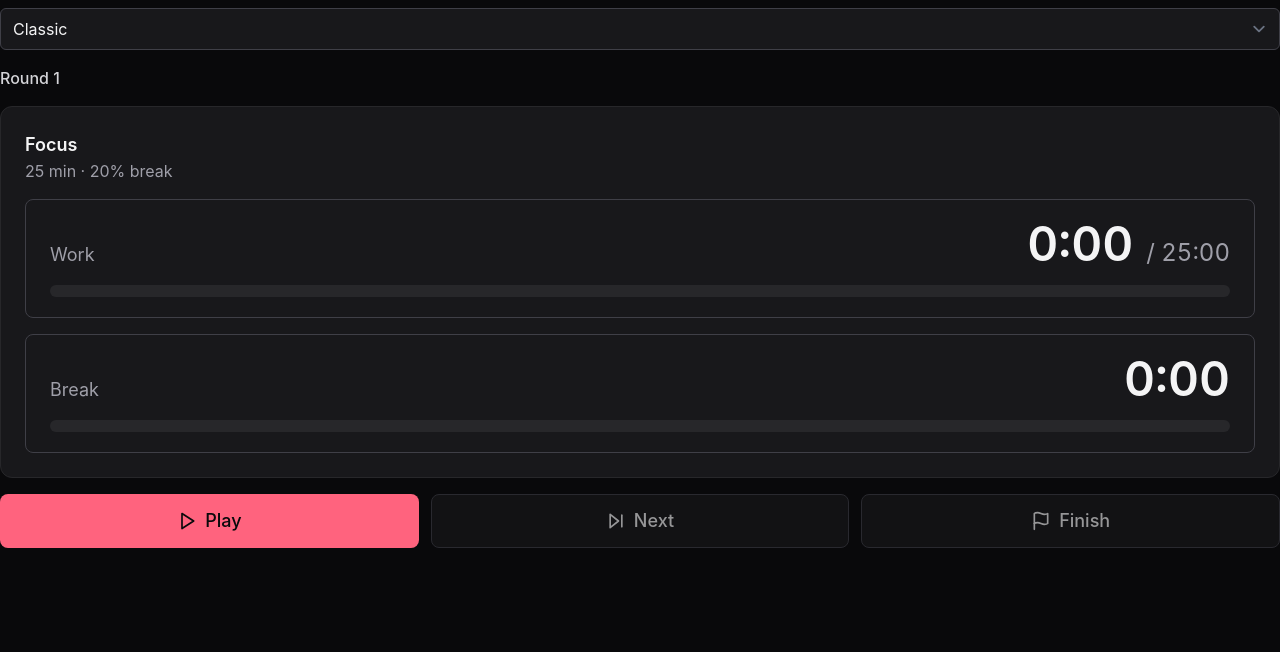
Test: the Timer screen › shows the blocks and position of the routine the user chooses, in run order
This screenshot has width=1280, height=652.
Select "Classic with long break" in the dropdown labelled "Routine": (640, 29) left=0, top=8, right=1279, bottom=50
(page scrolled)
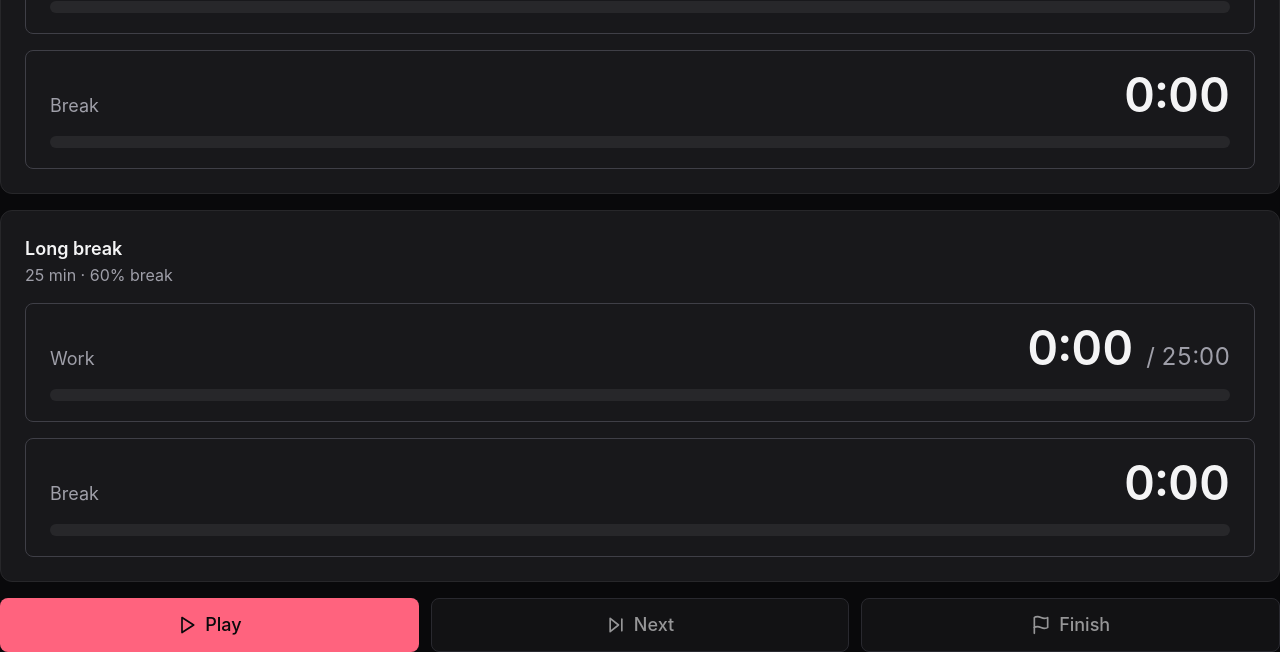
Check: the element showing "Long break 25 min · 60% break Work 0:00 / 25:00 Break 0:00" is shown, box left=0, top=210, right=1279, bottom=582
